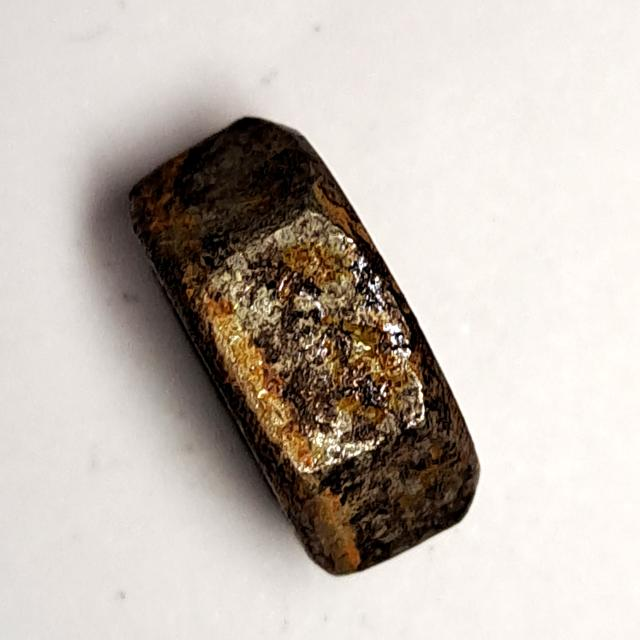Side_Rust: (113, 102, 503, 592)
